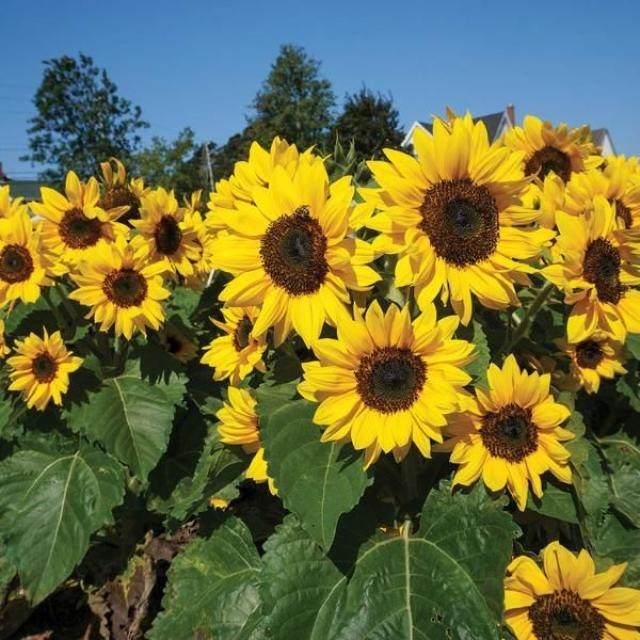sunflower: (356, 108, 554, 326), (202, 141, 384, 349), (295, 298, 479, 470), (432, 352, 575, 511), (205, 136, 333, 280), (538, 195, 640, 345), (501, 540, 639, 639), (67, 236, 171, 340), (28, 170, 130, 268), (502, 113, 603, 209), (128, 185, 204, 278), (4, 326, 83, 410), (156, 190, 218, 291), (563, 154, 640, 228), (0, 208, 58, 306), (198, 305, 268, 384), (552, 328, 630, 394), (91, 156, 150, 227), (214, 384, 262, 454), (244, 447, 278, 497), (0, 184, 32, 220), (0, 318, 9, 362)
